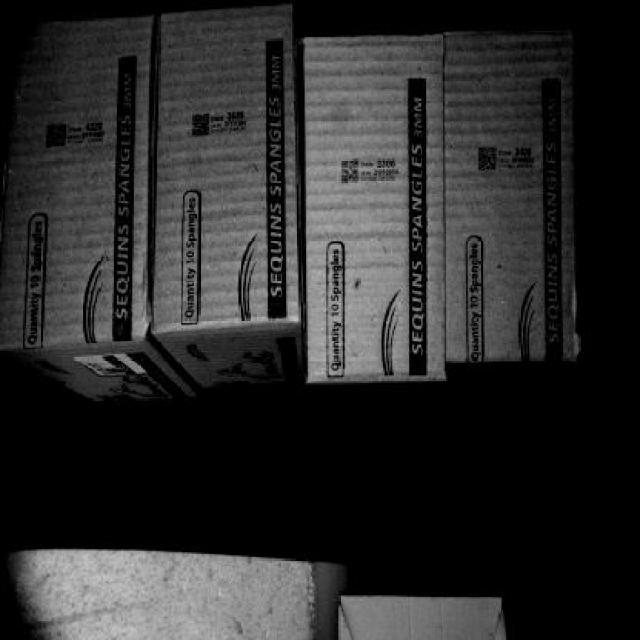box: (5, 19, 150, 348), (158, 8, 299, 324), (306, 48, 440, 377), (450, 32, 581, 362)
